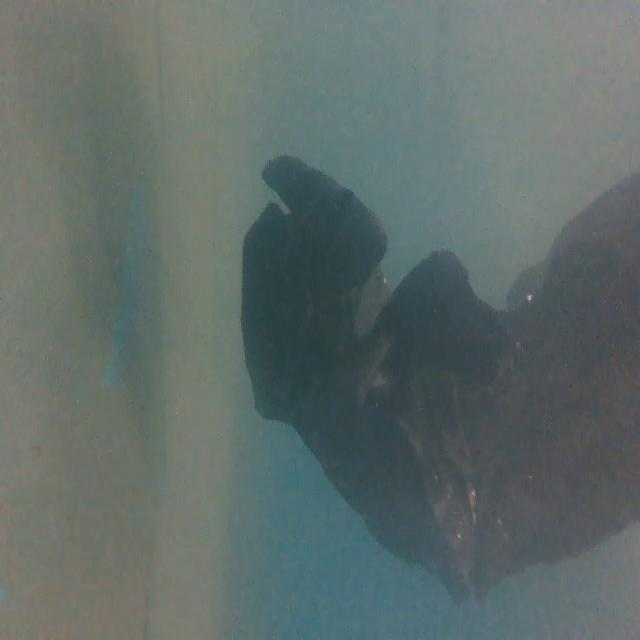plastic bags: (238, 151, 640, 613)
